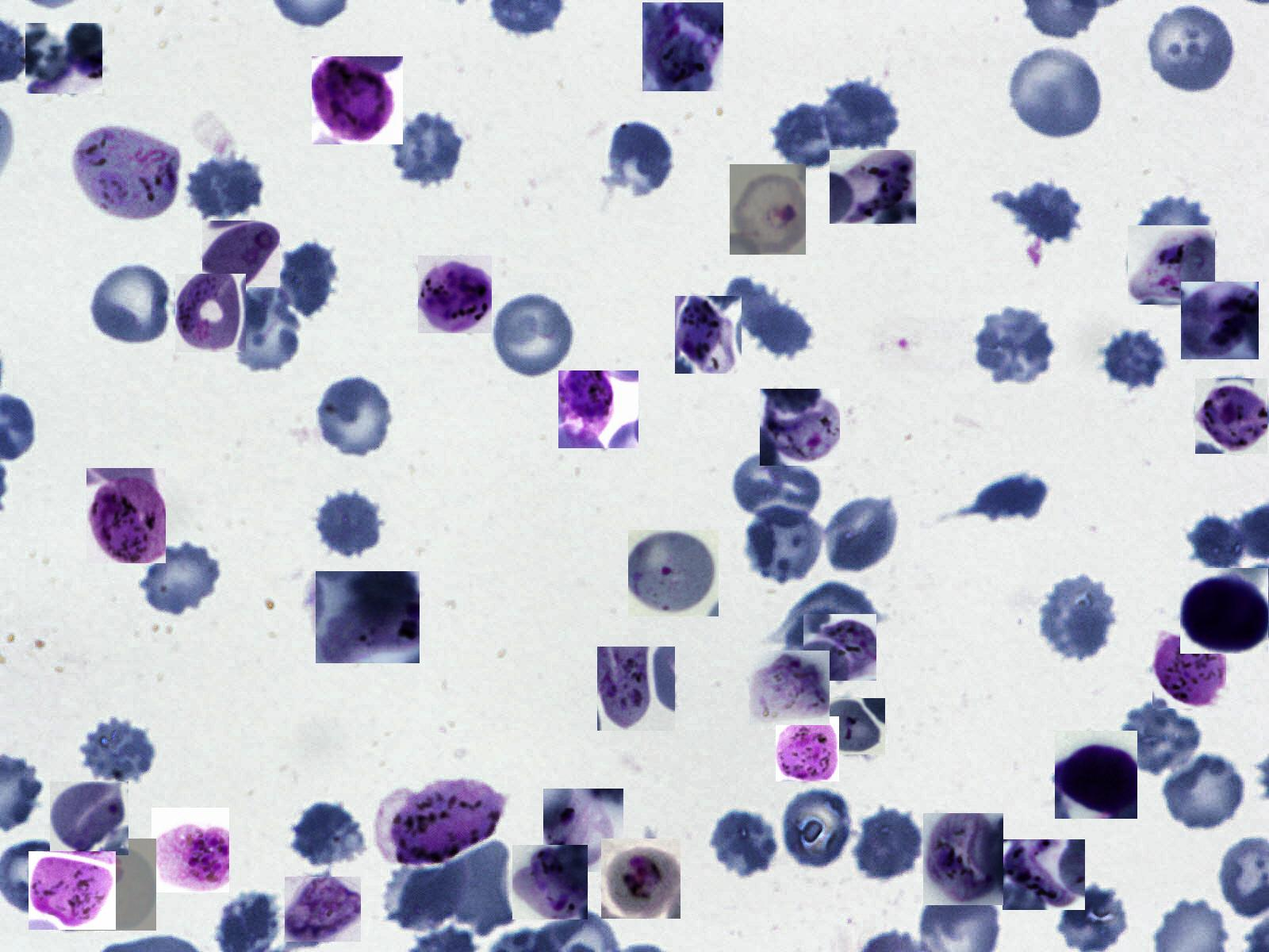Infected: (382, 774, 503, 865), (74, 123, 178, 221), (316, 571, 420, 663), (312, 56, 404, 144), (628, 530, 719, 616), (86, 468, 166, 563), (1180, 568, 1268, 654), (923, 813, 1003, 905), (76, 839, 156, 931), (1055, 731, 1137, 819), (642, 2, 723, 91), (1128, 225, 1215, 305), (730, 164, 806, 255), (29, 851, 116, 930), (543, 789, 623, 872), (151, 808, 229, 892), (598, 647, 676, 731), (601, 839, 681, 919), (830, 150, 916, 224), (558, 370, 638, 448), (760, 389, 840, 466), (1181, 282, 1259, 359), (750, 651, 830, 725), (1003, 839, 1085, 910), (1152, 630, 1226, 708), (50, 781, 128, 855), (418, 255, 492, 333), (512, 845, 588, 919), (175, 274, 246, 352), (1195, 378, 1267, 454), (25, 23, 102, 94), (675, 296, 742, 374), (202, 221, 280, 287), (285, 877, 361, 942), (803, 614, 876, 681), (776, 716, 839, 781), (820, 698, 885, 754)
Uninfected: (1008, 42, 1107, 142), (420, 836, 512, 935), (1144, 4, 1240, 94), (490, 288, 577, 382), (86, 262, 176, 349), (222, 287, 307, 375), (725, 274, 815, 357), (742, 501, 827, 586), (1161, 749, 1249, 831), (723, 449, 829, 517), (314, 373, 396, 460), (972, 305, 1059, 387), (1038, 574, 1118, 662), (1118, 700, 1204, 781), (135, 539, 223, 616), (784, 582, 880, 650), (779, 785, 853, 873), (384, 858, 467, 935), (1137, 193, 1217, 271), (820, 79, 902, 154), (385, 111, 466, 186), (773, 98, 857, 170), (824, 494, 900, 573), (287, 797, 368, 868), (184, 148, 264, 219), (307, 491, 381, 565), (854, 807, 924, 882), (277, 238, 339, 322), (607, 120, 673, 198), (1056, 884, 1131, 952), (80, 717, 155, 782), (710, 808, 778, 877), (1101, 325, 1170, 389), (1010, 177, 1080, 240), (1186, 513, 1250, 574)
